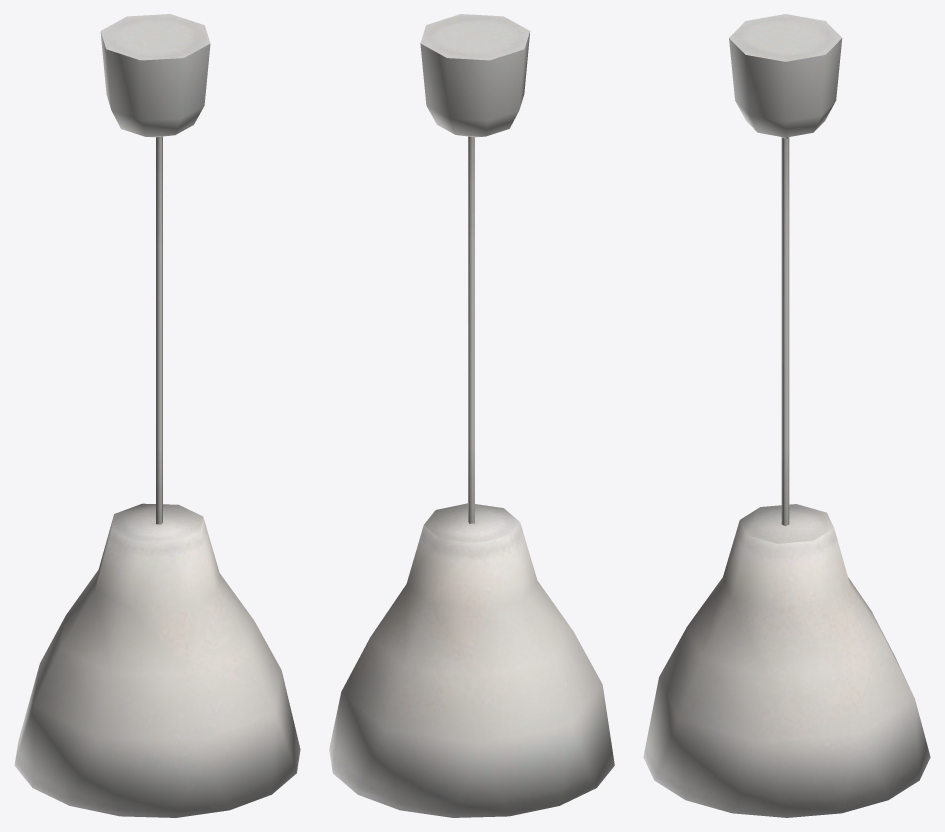
File: ceiling_hanging.dae
The picture shows the model from 3 angles, left to right: view 1: azimuth 30°, elevation 25°; view 2: azimuth 150°, elevation 25°; view 3: azimuth 270°, elevation 25°; orthographic projection.
Visible parts, largest first — view 1: ceiling_hanging; view 2: ceiling_hanging; view 3: ceiling_hanging.
Part boxes in pixels (x1,y1,x2,y2): ceiling_hanging: [14, 14, 300, 817]; ceiling_hanging: [329, 14, 614, 817]; ceiling_hanging: [643, 14, 930, 817].
Size of the model in its own units: 36.78 by 102 by 36.78.
